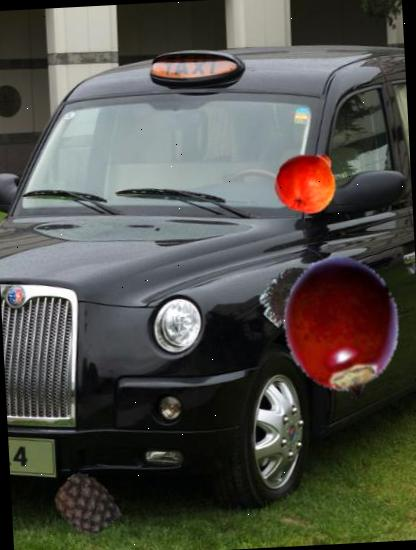Pear: (272, 146, 342, 216)
Pineapple: (53, 471, 118, 536)
Rambutan: (259, 258, 335, 334)
Tamarillo: (267, 250, 416, 401)
